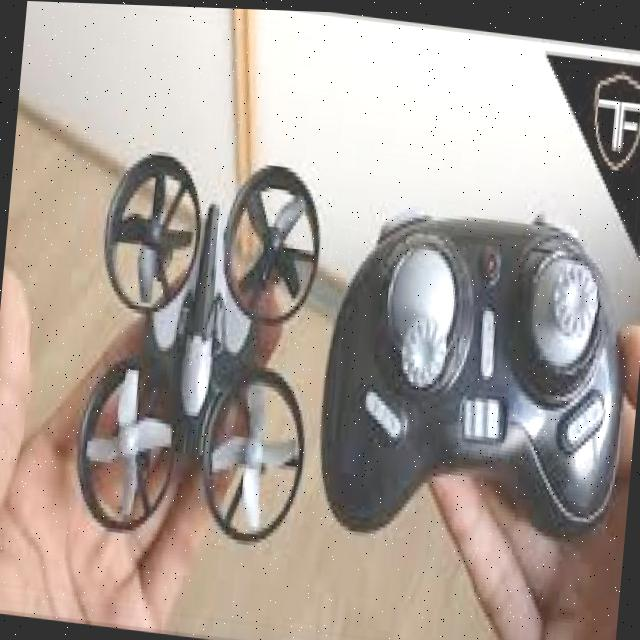drone: (70, 111, 342, 573)
